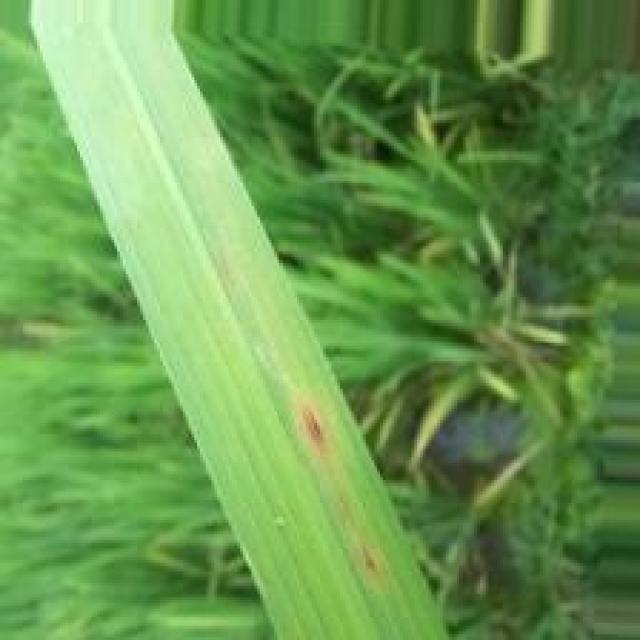Brown_Spot: (291, 399, 328, 464)
